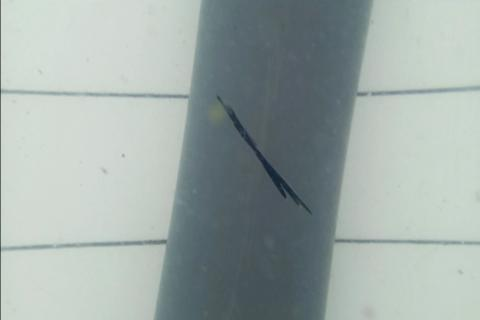keretakan: (215, 92, 314, 217)
